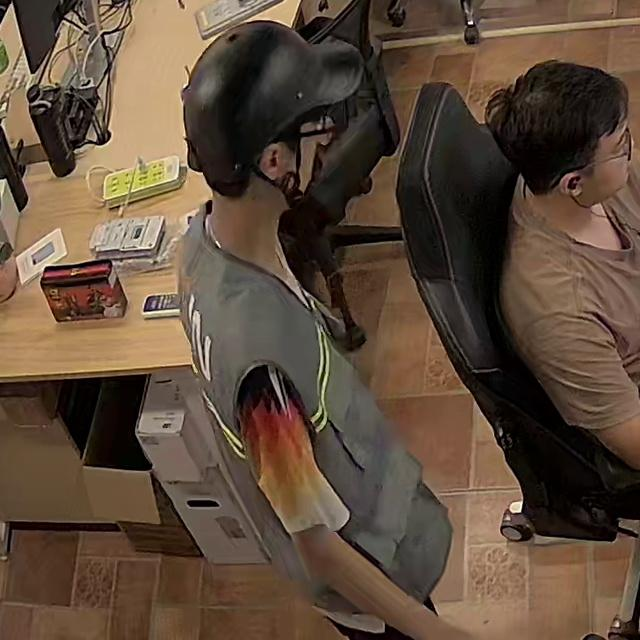helmet: (180, 21, 366, 189)
no_helmet: (486, 64, 627, 194)
none: (501, 165, 637, 436)
vest: (177, 209, 450, 629)
